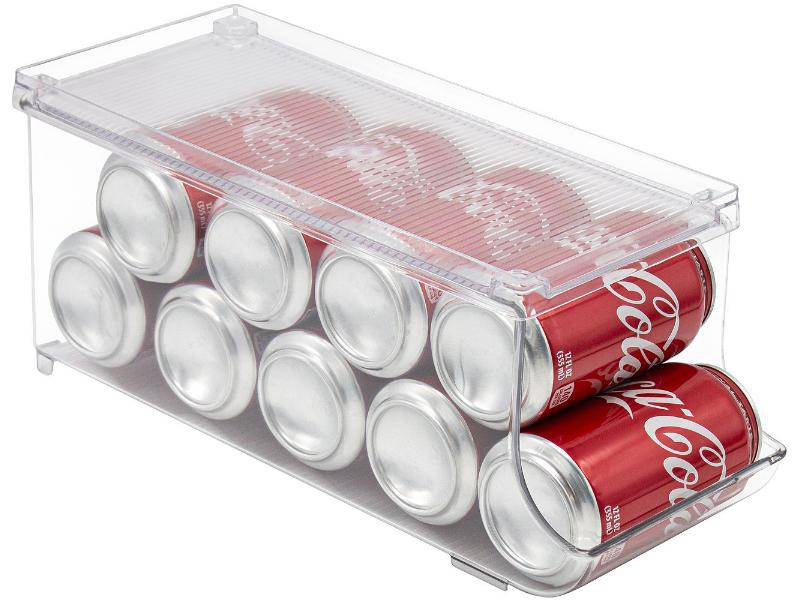can: (471, 353, 771, 593), (420, 205, 729, 428), (313, 160, 593, 379), (197, 178, 309, 331), (363, 378, 472, 521), (254, 327, 360, 474), (150, 282, 252, 419), (45, 230, 143, 369), (93, 151, 191, 280)
